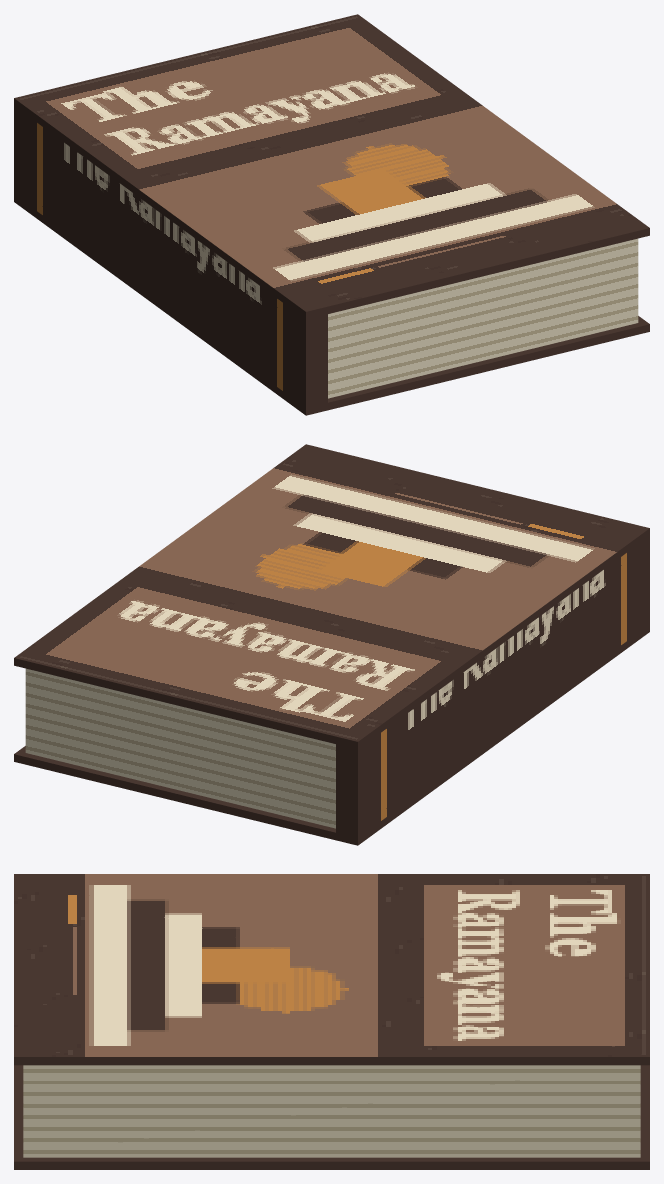
File: holybook_ramayana.glb
The picture shows the model from 3 angles, top to bottom: view 1: azimuth 30°, elevation 25°; view 2: azimuth 150°, elevation 25°; view 3: azimuth 270°, elevation 25°; orthographic projection. The views are drawn at different scales.
Visible parts, largest first — view 1: block_front cover, block_spine, block_page block, block_back cover; view 2: block_front cover, block_spine, block_page block, block_back cover; view 3: block_front cover, block_page block, block_back cover.
Boxes of the visible parts, x1=… form: block_front cover: x1=14, y1=14, x2=649, y2=319; block_spine: x1=14, y1=106, x2=327, y2=407; block_page block: x1=328, y1=238, x2=638, y2=398; block_back cover: x1=14, y1=194, x2=649, y2=415; block_front cover: x1=14, y1=444, x2=649, y2=749; block_spine: x1=336, y1=536, x2=649, y2=837; block_page block: x1=25, y1=668, x2=335, y2=828; block_back cover: x1=14, y1=624, x2=649, y2=845; block_front cover: x1=14, y1=874, x2=649, y2=1065; block_page block: x1=23, y1=1065, x2=640, y2=1157; block_back cover: x1=14, y1=1065, x2=649, y2=1169.
Bounding box in the file's own units: 0.1414 × 0.0408 × 0.208.
1 material, 1 textured.
